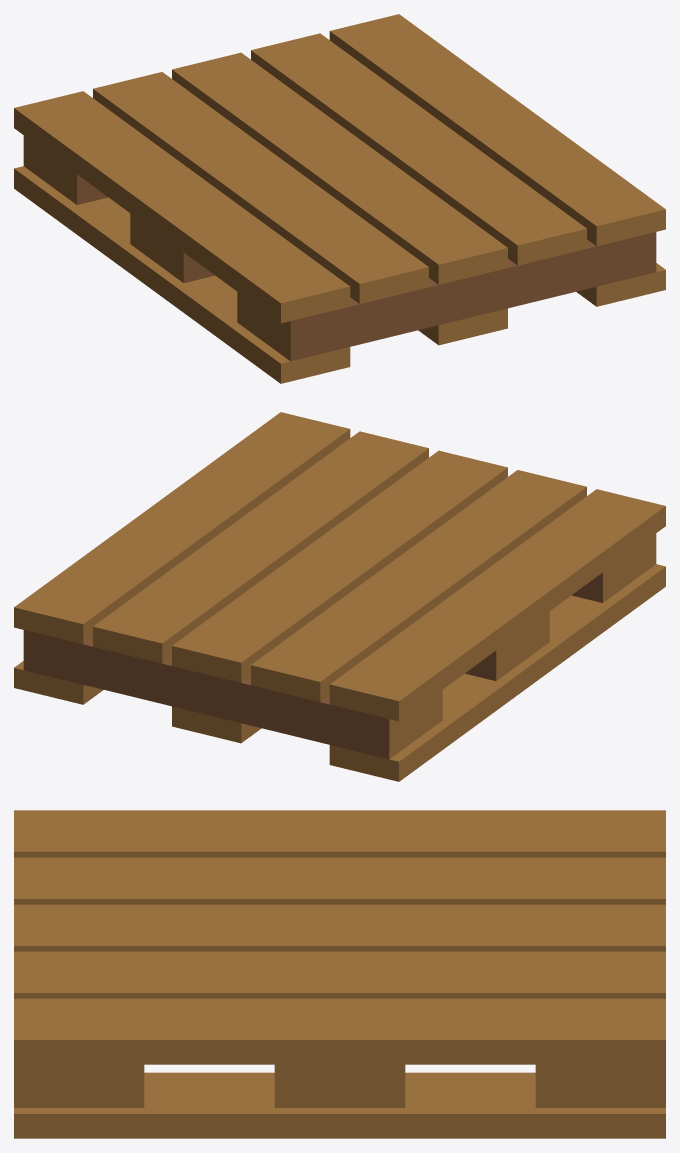
The model's file is props-palette.glb.
3 views of the same model, one above another, from view 1: azimuth 30°, elevation 25°; view 2: azimuth 150°, elevation 25°; view 3: azimuth 270°, elevation 25° (orthographic). The views are drawn at different scales.
Parts seen in each view (by area): view 1: palette; view 2: palette; view 3: palette.
Part boxes in pixels (bbox=[...]): palette: bbox=[14, 14, 665, 383]; palette: bbox=[14, 412, 665, 781]; palette: bbox=[14, 810, 665, 1138].
Size of the model in its own units: 1.1 by 0.22 by 1.32.
